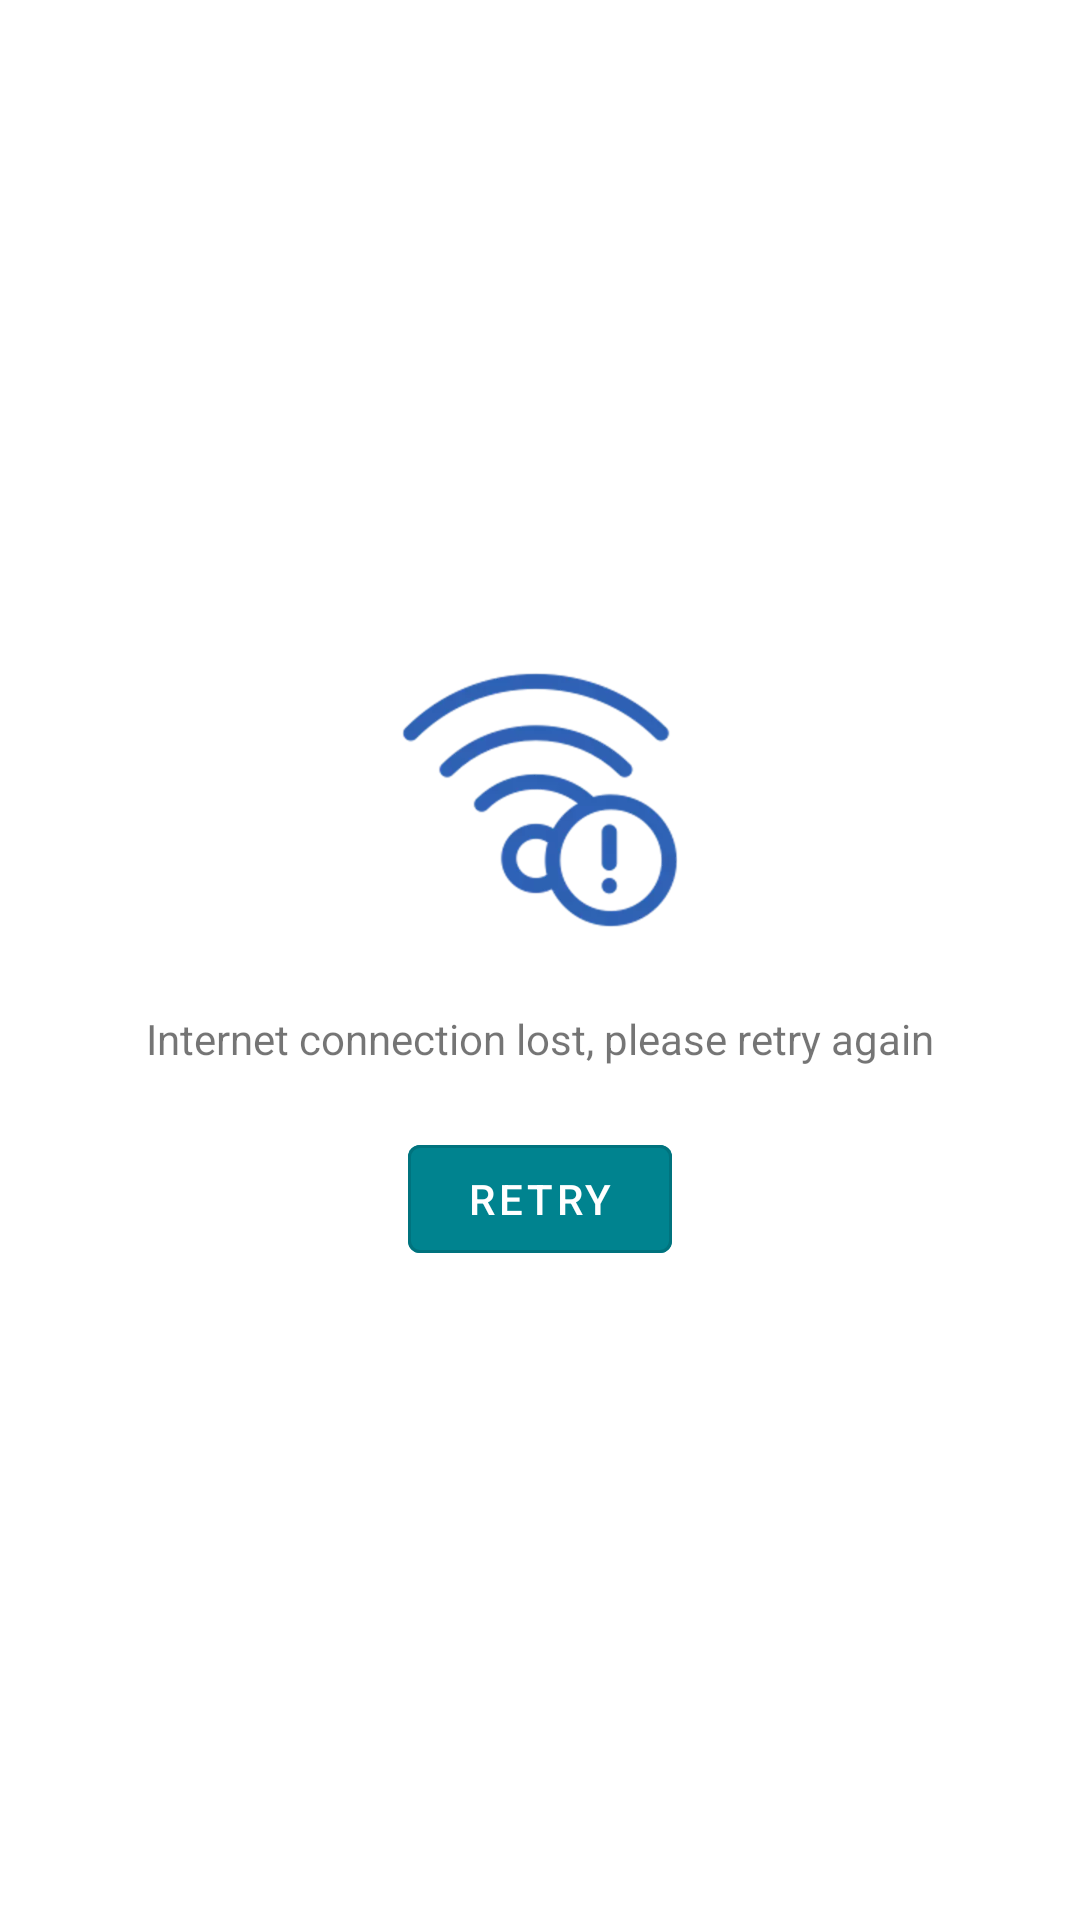

Icons on this 1080px×1920px Android screen, each with its box as (x1, y1, x2, y2):
No Internet Icon: (403, 673, 677, 927)
